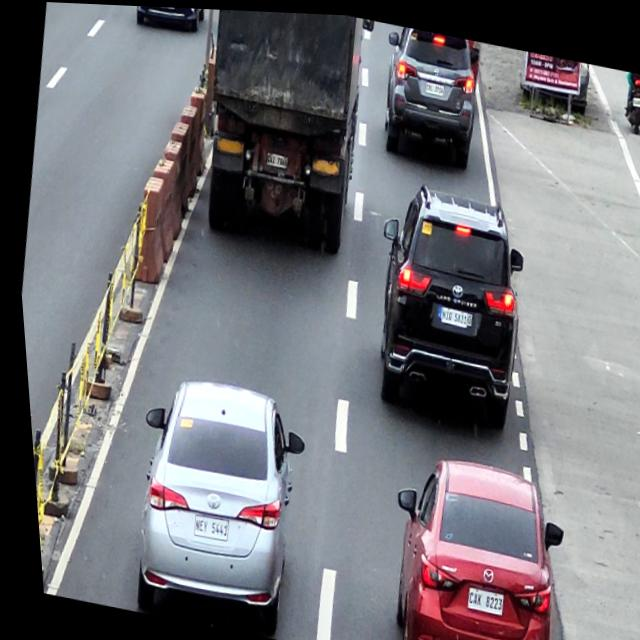Car: (106, 366, 317, 640), (349, 175, 538, 428), (361, 442, 570, 640), (368, 20, 489, 169), (134, 5, 212, 33)
License-Plate: (457, 583, 496, 610), (184, 514, 223, 539), (435, 304, 464, 325), (263, 150, 287, 167), (422, 78, 444, 93), (631, 91, 640, 102)
Motorcycle: (619, 66, 640, 130)
Truck: (184, 6, 388, 258)
